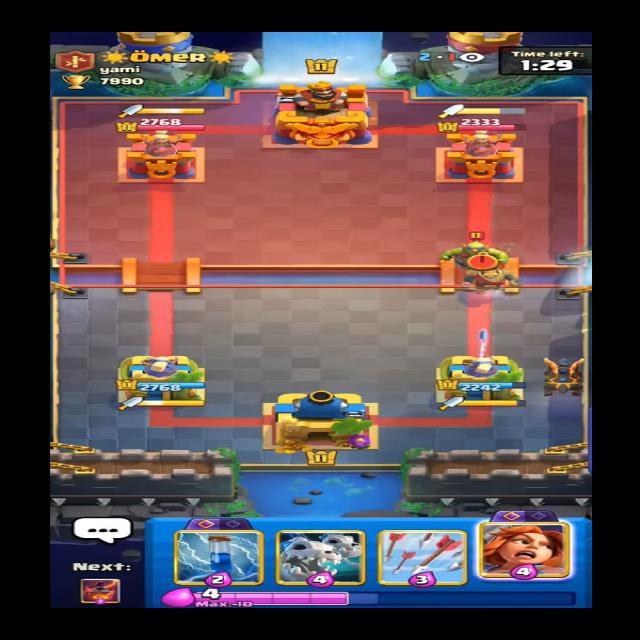goblin-demolisher: (433, 235, 532, 273)
knight: (454, 259, 527, 303)
